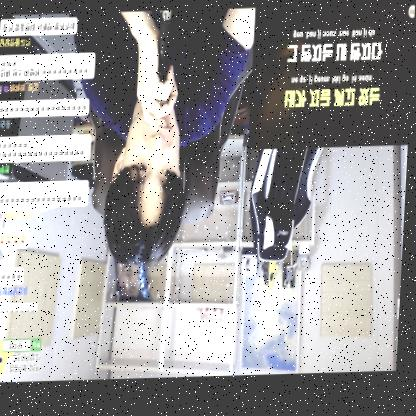streamer: (62, 11, 257, 269)
